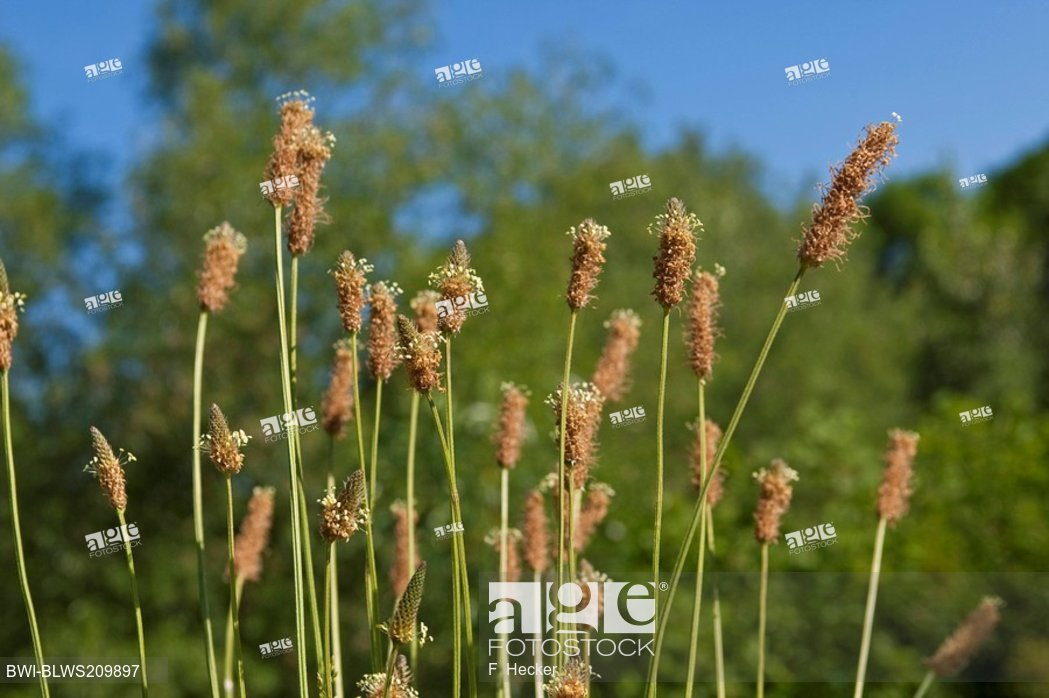buckhorn plantain: (7, 83, 1014, 698)
